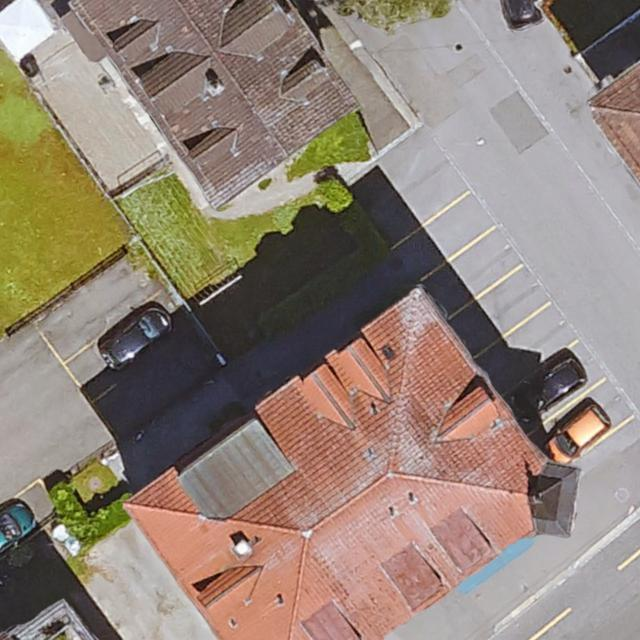tree: (315, 0, 465, 26)
